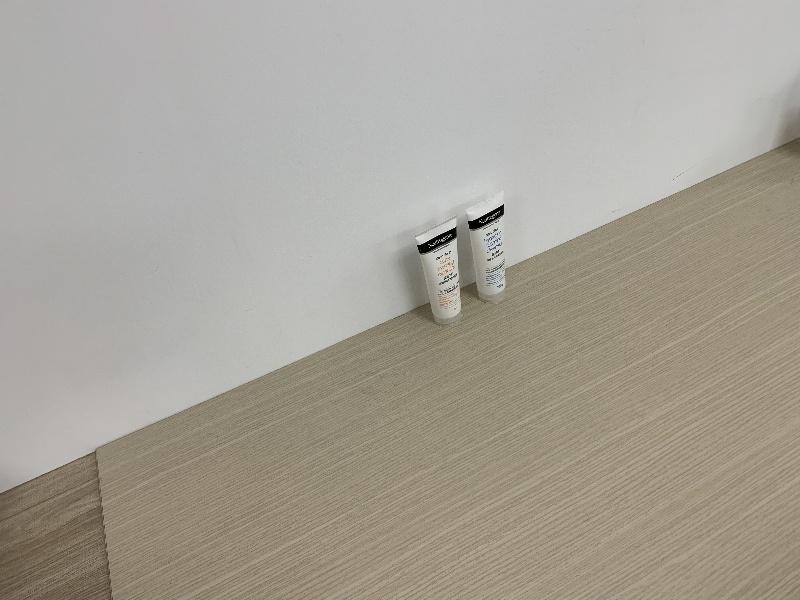AcneFoamingCleanser: (414, 214, 463, 325)
HydratingFoamingCleanser: (465, 191, 506, 302)
